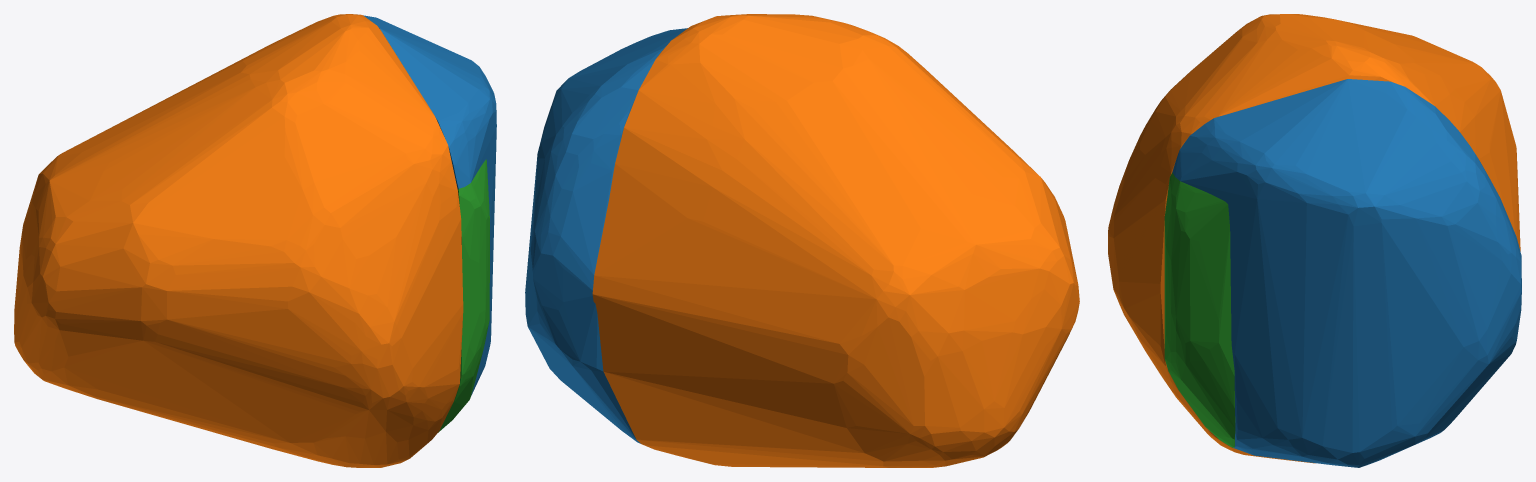
Rendered from Apophis_N3.obj.
The picture shows the model from 3 angles, left to right: view 1: azimuth 30°, elevation 25°; view 2: azimuth 150°, elevation 25°; view 3: azimuth 270°, elevation 25°; orthographic projection. The views are drawn at different scales.
Visible parts, largest first — view 1: ../meshes/apophis_v233s7_vert2_new001, ../meshes/apophis_v233s7_vert2_new000, ../meshes/apophis_v233s7_vert2_new002; view 2: ../meshes/apophis_v233s7_vert2_new001, ../meshes/apophis_v233s7_vert2_new000; view 3: ../meshes/apophis_v233s7_vert2_new000, ../meshes/apophis_v233s7_vert2_new001, ../meshes/apophis_v233s7_vert2_new002.
Boxes of the visible parts, <box> form: ../meshes/apophis_v233s7_vert2_new001: <box>14,14,463,467</box>; ../meshes/apophis_v233s7_vert2_new000: <box>363,15,496,395</box>; ../meshes/apophis_v233s7_vert2_new002: <box>438,159,489,432</box>; ../meshes/apophis_v233s7_vert2_new001: <box>592,14,1079,467</box>; ../meshes/apophis_v233s7_vert2_new000: <box>525,28,687,443</box>; ../meshes/apophis_v233s7_vert2_new000: <box>1172,79,1521,467</box>; ../meshes/apophis_v233s7_vert2_new001: <box>1108,14,1520,463</box>; ../meshes/apophis_v233s7_vert2_new002: <box>1164,172,1235,447</box>.
Size of the model in its own units: 0.4052 by 0.3461 by 0.3143.
